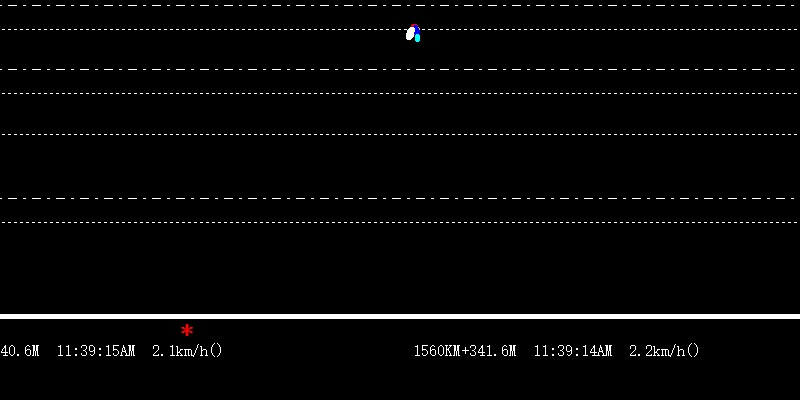face_2: (405, 21, 420, 46)
star: (179, 320, 194, 338)
